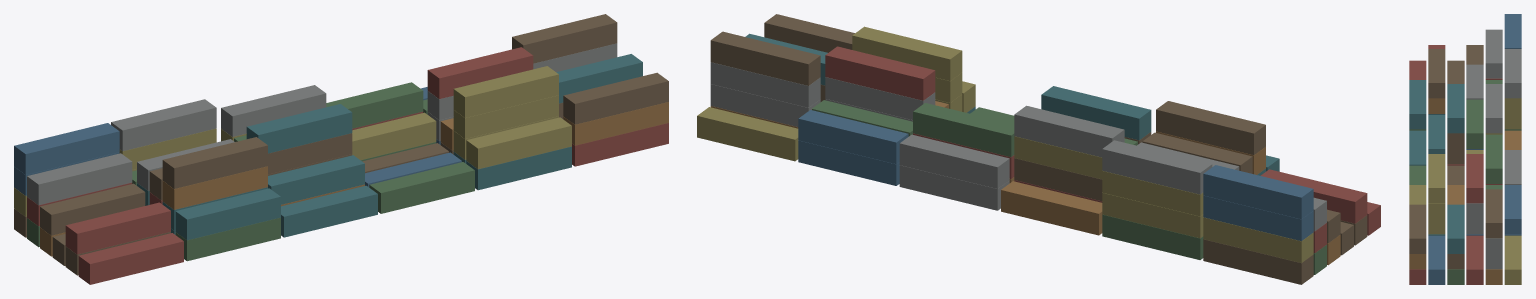
The model's file is container_stack.glb.
The picture shows the model from 3 angles, left to right: view 1: azimuth 30°, elevation 25°; view 2: azimuth 150°, elevation 25°; view 3: azimuth 270°, elevation 25°; orthographic projection. The views are drawn at different scales.
Parts seen in each view (by area): view 1: LOD0; view 2: LOD0; view 3: LOD0.
Part boxes in pixels (bbox=[...]): LOD0: bbox=[14, 14, 668, 284]; LOD0: bbox=[697, 14, 1380, 284]; LOD0: bbox=[1409, 14, 1521, 284].
Size of what is drawn, in the model's own units: 75.2 by 10.38 by 17.1.
